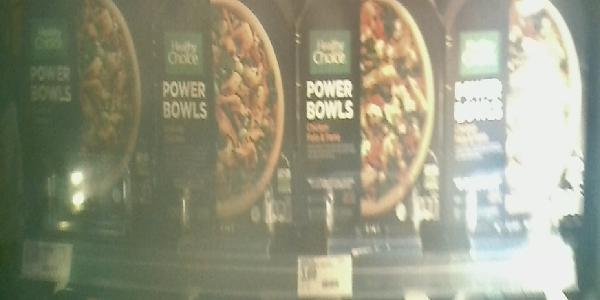pizza1: (445, 1, 588, 253), (300, 1, 442, 248), (157, 1, 301, 241), (13, 1, 157, 233)
